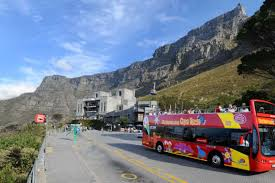bus: (141, 98, 275, 174)
